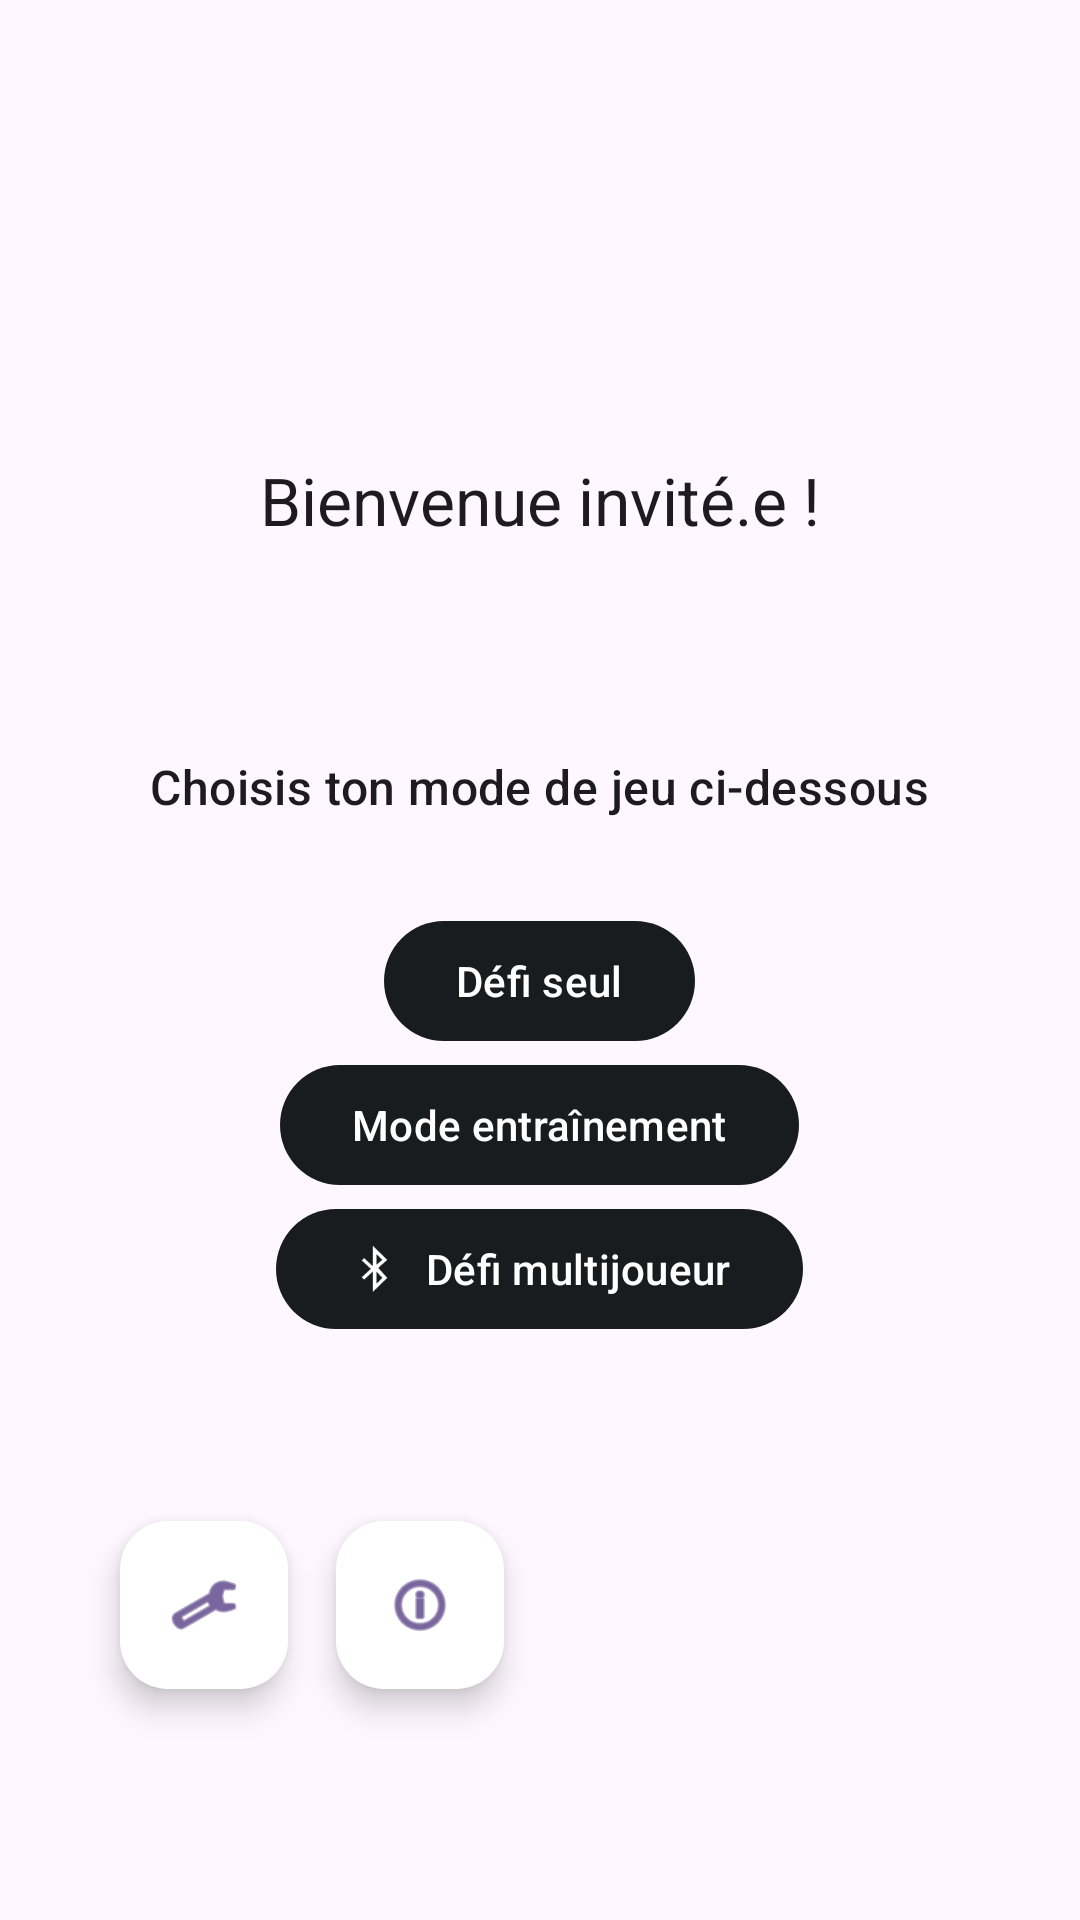

Icon click points for this 1080px×1920px phone screenshot, format (x,y):
info details: (420,1605)
preferences: (204,1605)
